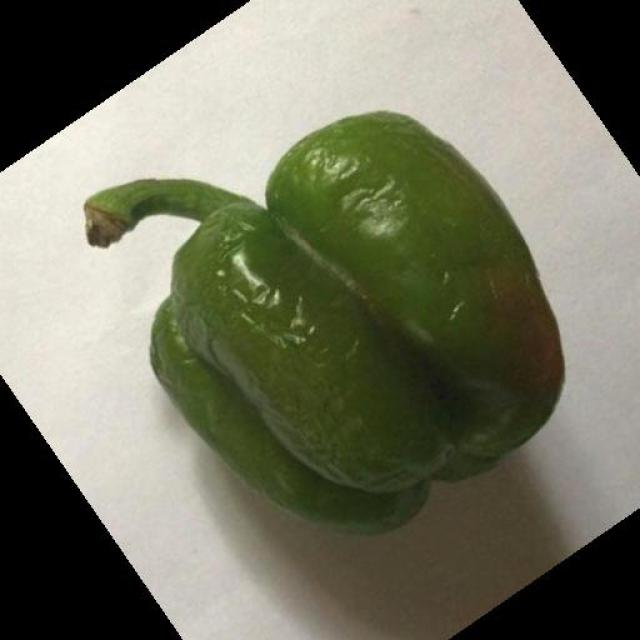Stale_Capsicum: (124, 107, 551, 521)
